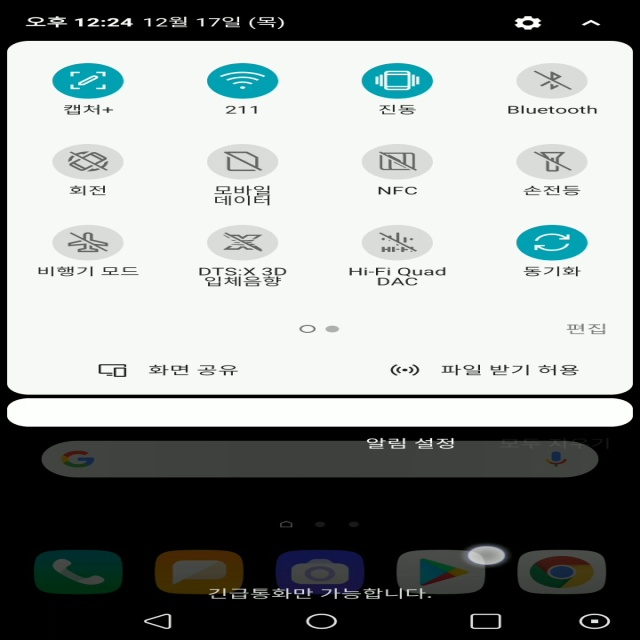Cursor: (466, 544, 511, 567)
